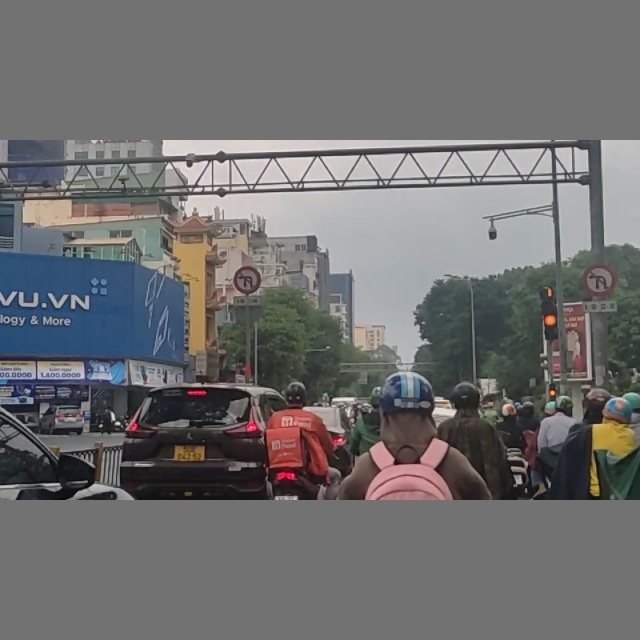P.124c: (585, 267, 612, 293), (235, 267, 261, 293)
